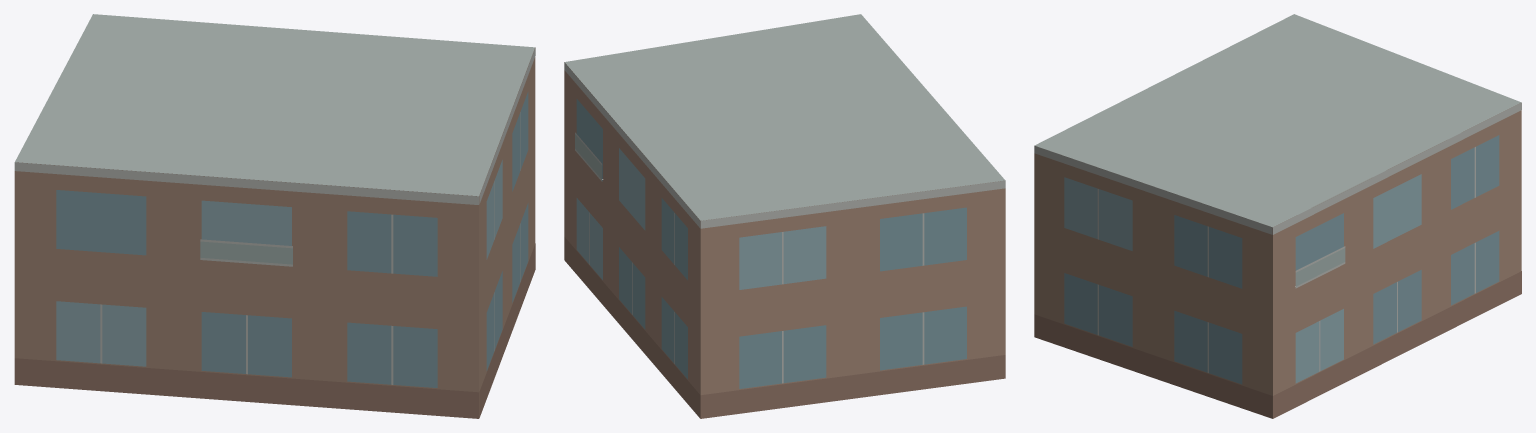
Rendered from survey-upis-32919817.glb.
3 renders of one model, left to right at view 1: azimuth 30°, elevation 25°; view 2: azimuth 150°, elevation 25°; view 3: azimuth 270°, elevation 25°, orthographic. The views are drawn at different scales.
Parts seen in each view (by area): view 1: survey-upis-32919817.tmp; view 2: survey-upis-32919817.tmp; view 3: survey-upis-32919817.tmp.
Part boxes in pixels (box(x1,y1,x2,y2)): survey-upis-32919817.tmp: box(14, 14, 535, 418); survey-upis-32919817.tmp: box(564, 14, 1005, 418); survey-upis-32919817.tmp: box(1034, 14, 1521, 418).
Size of the model in its own units: 14.58 by 6.1 by 14.08.
